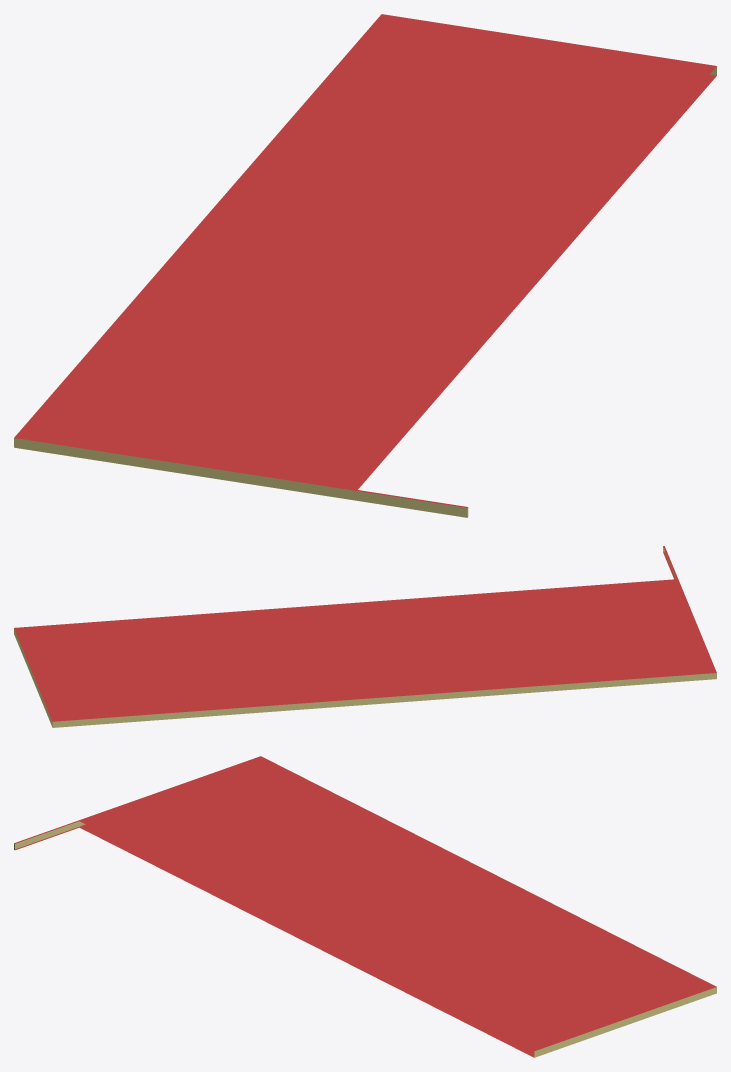
The picture shows the model from 3 angles, top to bottom: view 1: azimuth 30°, elevation 25°; view 2: azimuth 150°, elevation 25°; view 3: azimuth 270°, elevation 25°; orthographic projection. The views are drawn at different scales.
Size of the model in its own units: 9.69 by 9.75 by 0.1.
